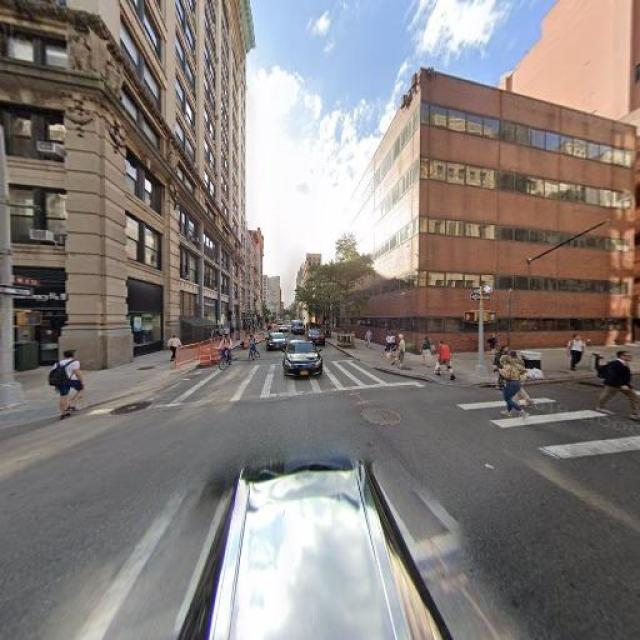Building: (1, 1, 247, 355), (349, 58, 615, 350)
